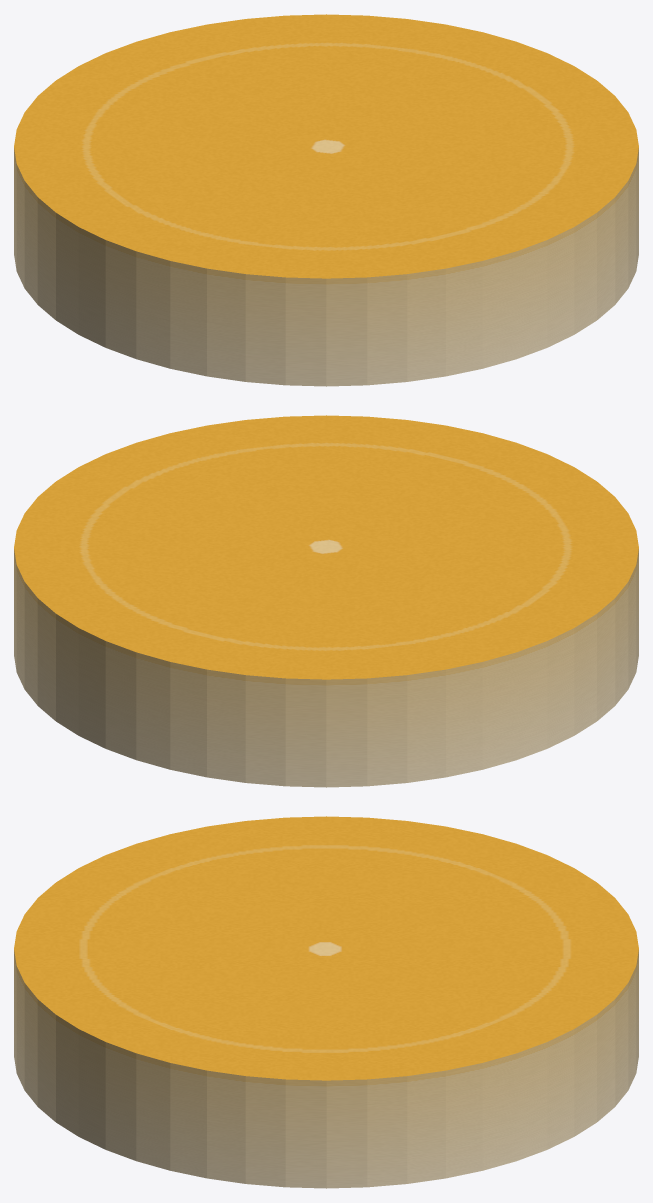
File: cyl_short_yellow.glb
The picture shows the model from 3 angles, top to bottom: view 1: azimuth 30°, elevation 25°; view 2: azimuth 150°, elevation 25°; view 3: azimuth 270°, elevation 25°; orthographic projection.
Visible parts, largest first — view 1: cyl_short_yellow; view 2: cyl_short_yellow; view 3: cyl_short_yellow.
Part boxes in pixels (x1,y1,x2,y2): cyl_short_yellow: (14, 14, 638, 386); cyl_short_yellow: (14, 415, 638, 787); cyl_short_yellow: (14, 816, 638, 1188).
Size of the model in its own units: 2.1 by 0.4 by 2.1.
Materials: 2 (2 with a texture image).
